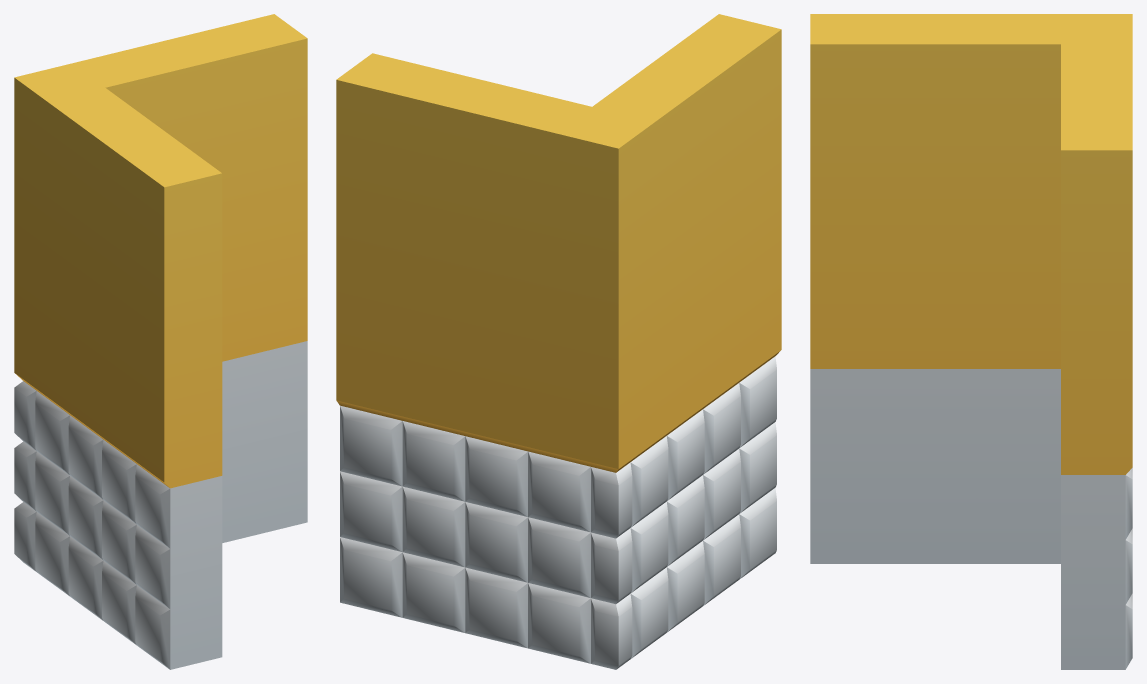
The model's file is wall_tiled_corner_outer.fbx.
The picture shows the model from 3 angles, left to right: view 1: azimuth 30°, elevation 25°; view 2: azimuth 150°, elevation 25°; view 3: azimuth 270°, elevation 25°; orthographic projection. The views are drawn at different scales.
Visible parts, largest first — view 1: wall_tiled_corner_outer; view 2: wall_tiled_corner_outer; view 3: wall_tiled_corner_outer.
Boxes of the visible parts, x1,y1,x2,y2 form: wall_tiled_corner_outer: [14, 14, 307, 669]; wall_tiled_corner_outer: [336, 14, 781, 669]; wall_tiled_corner_outer: [810, 14, 1132, 669].
Bounding box in the file's own units: 2.25 × 4 × 2.25.
